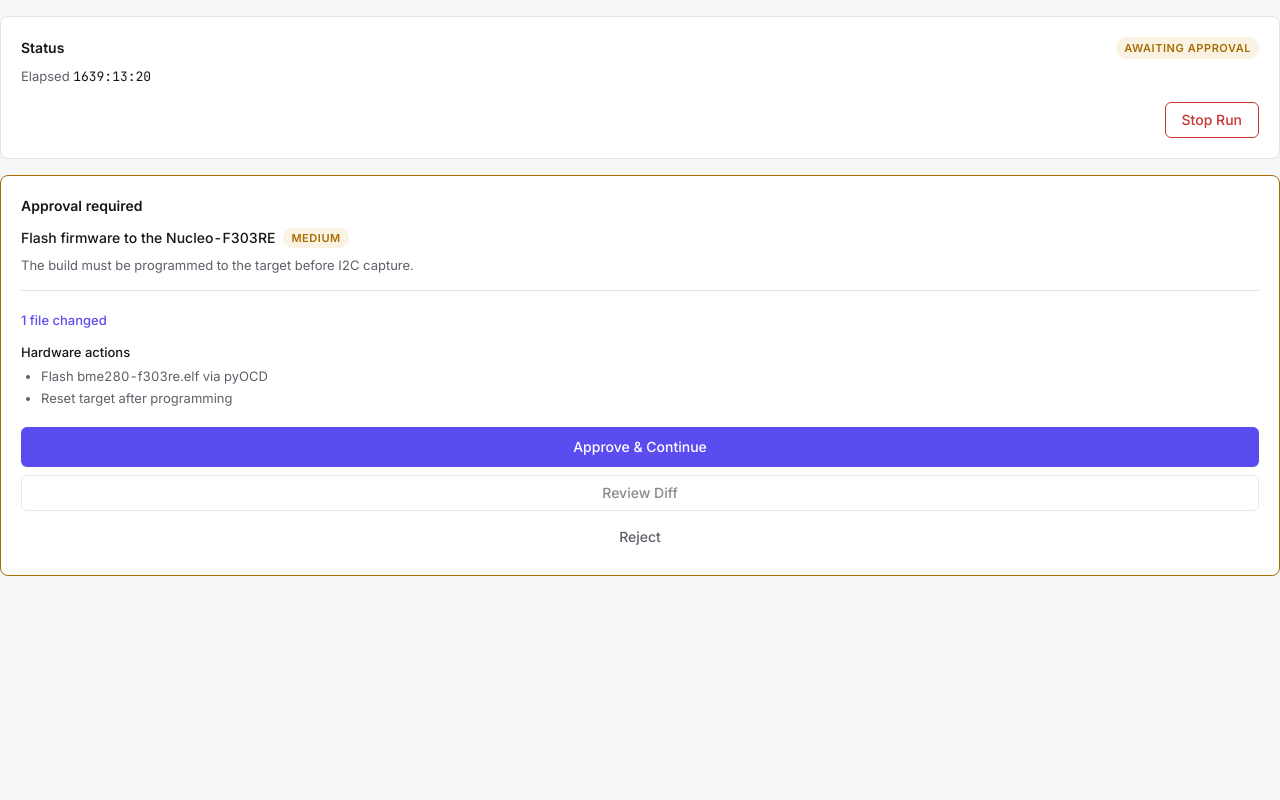
Test: approval resolution › approves the pending approval and holds both buttons disabled until the event lands
Click the button "Approve & Continue" at x=640, y=447, box [21, 427, 1259, 467]
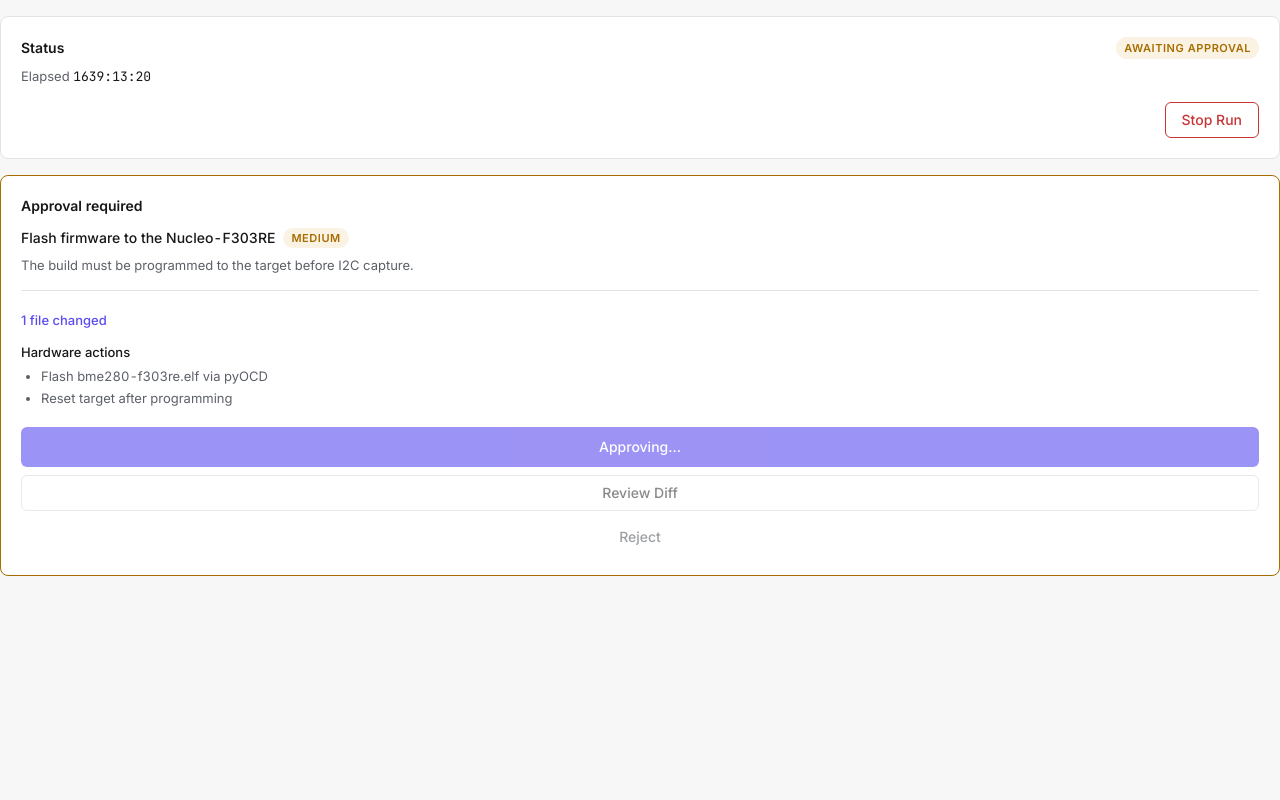
Result: the button "Approving…" is disabled at [21, 427, 1259, 467]
Result: the button "Reject" is disabled at [21, 519, 1259, 555]
